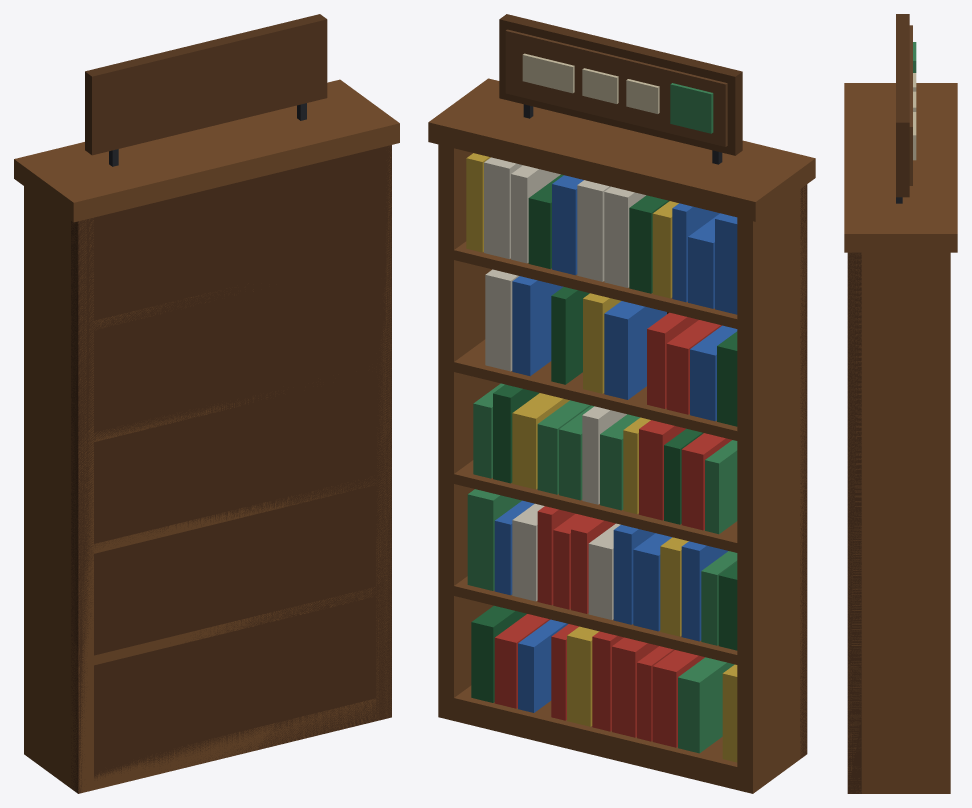
Rendered from tv-shelf-tieng-anh.glb.
3 views of the same model, side by side, from view 1: azimuth 30°, elevation 25°; view 2: azimuth 150°, elevation 25°; view 3: azimuth 270°, elevation 25° (orthographic). The views are drawn at different scales.
Visible parts, largest first — view 1: box-prop; view 2: box-prop; view 3: box-prop.
Part boxes in pixels (bbox=[...]): box-prop: bbox=[14, 14, 399, 793]; box-prop: bbox=[428, 14, 815, 793]; box-prop: bbox=[844, 14, 957, 793].
Bounding box in the file's own units: 2.08 × 4.2 × 0.66.
